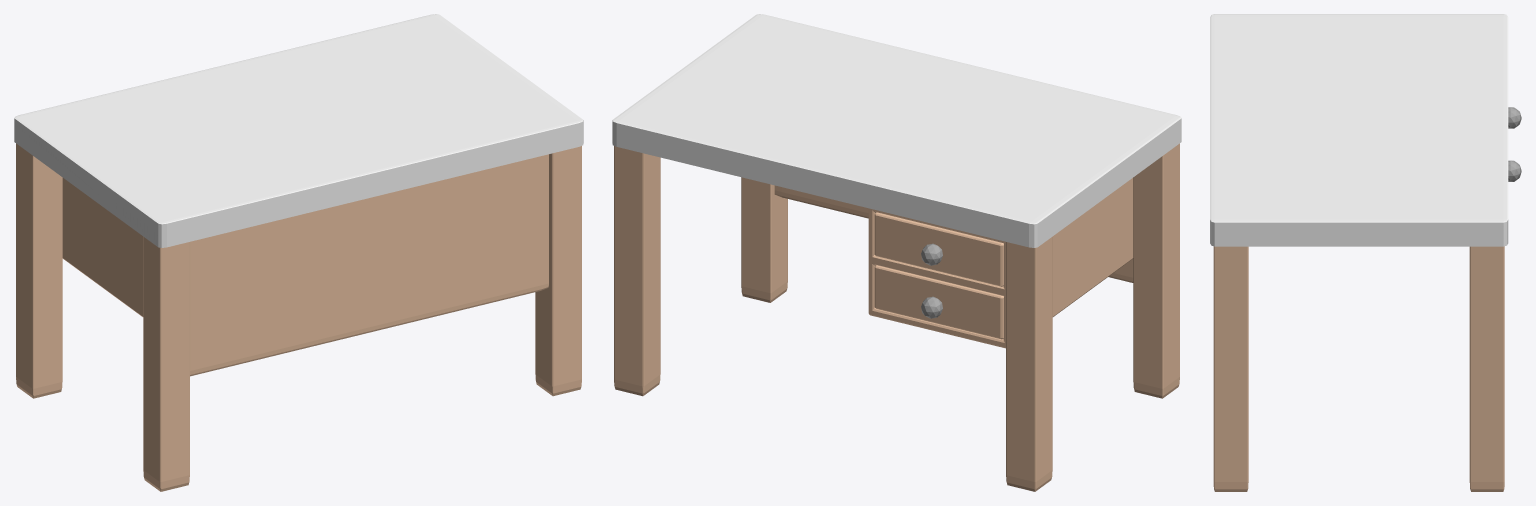
The model's file is Table.fbx.
The picture shows the model from 3 angles, left to right: view 1: azimuth 30°, elevation 25°; view 2: azimuth 150°, elevation 25°; view 3: azimuth 270°, elevation 25°; orthographic projection.
Visible parts, largest first — view 1: Table; view 2: Table; view 3: Table.
Boxes of the visible parts, x1,y1,x2,y2 form: Table: [14, 14, 583, 491]; Table: [612, 14, 1181, 491]; Table: [1210, 14, 1521, 491].
Size of the model in its own units: 282 by 171 by 178.
